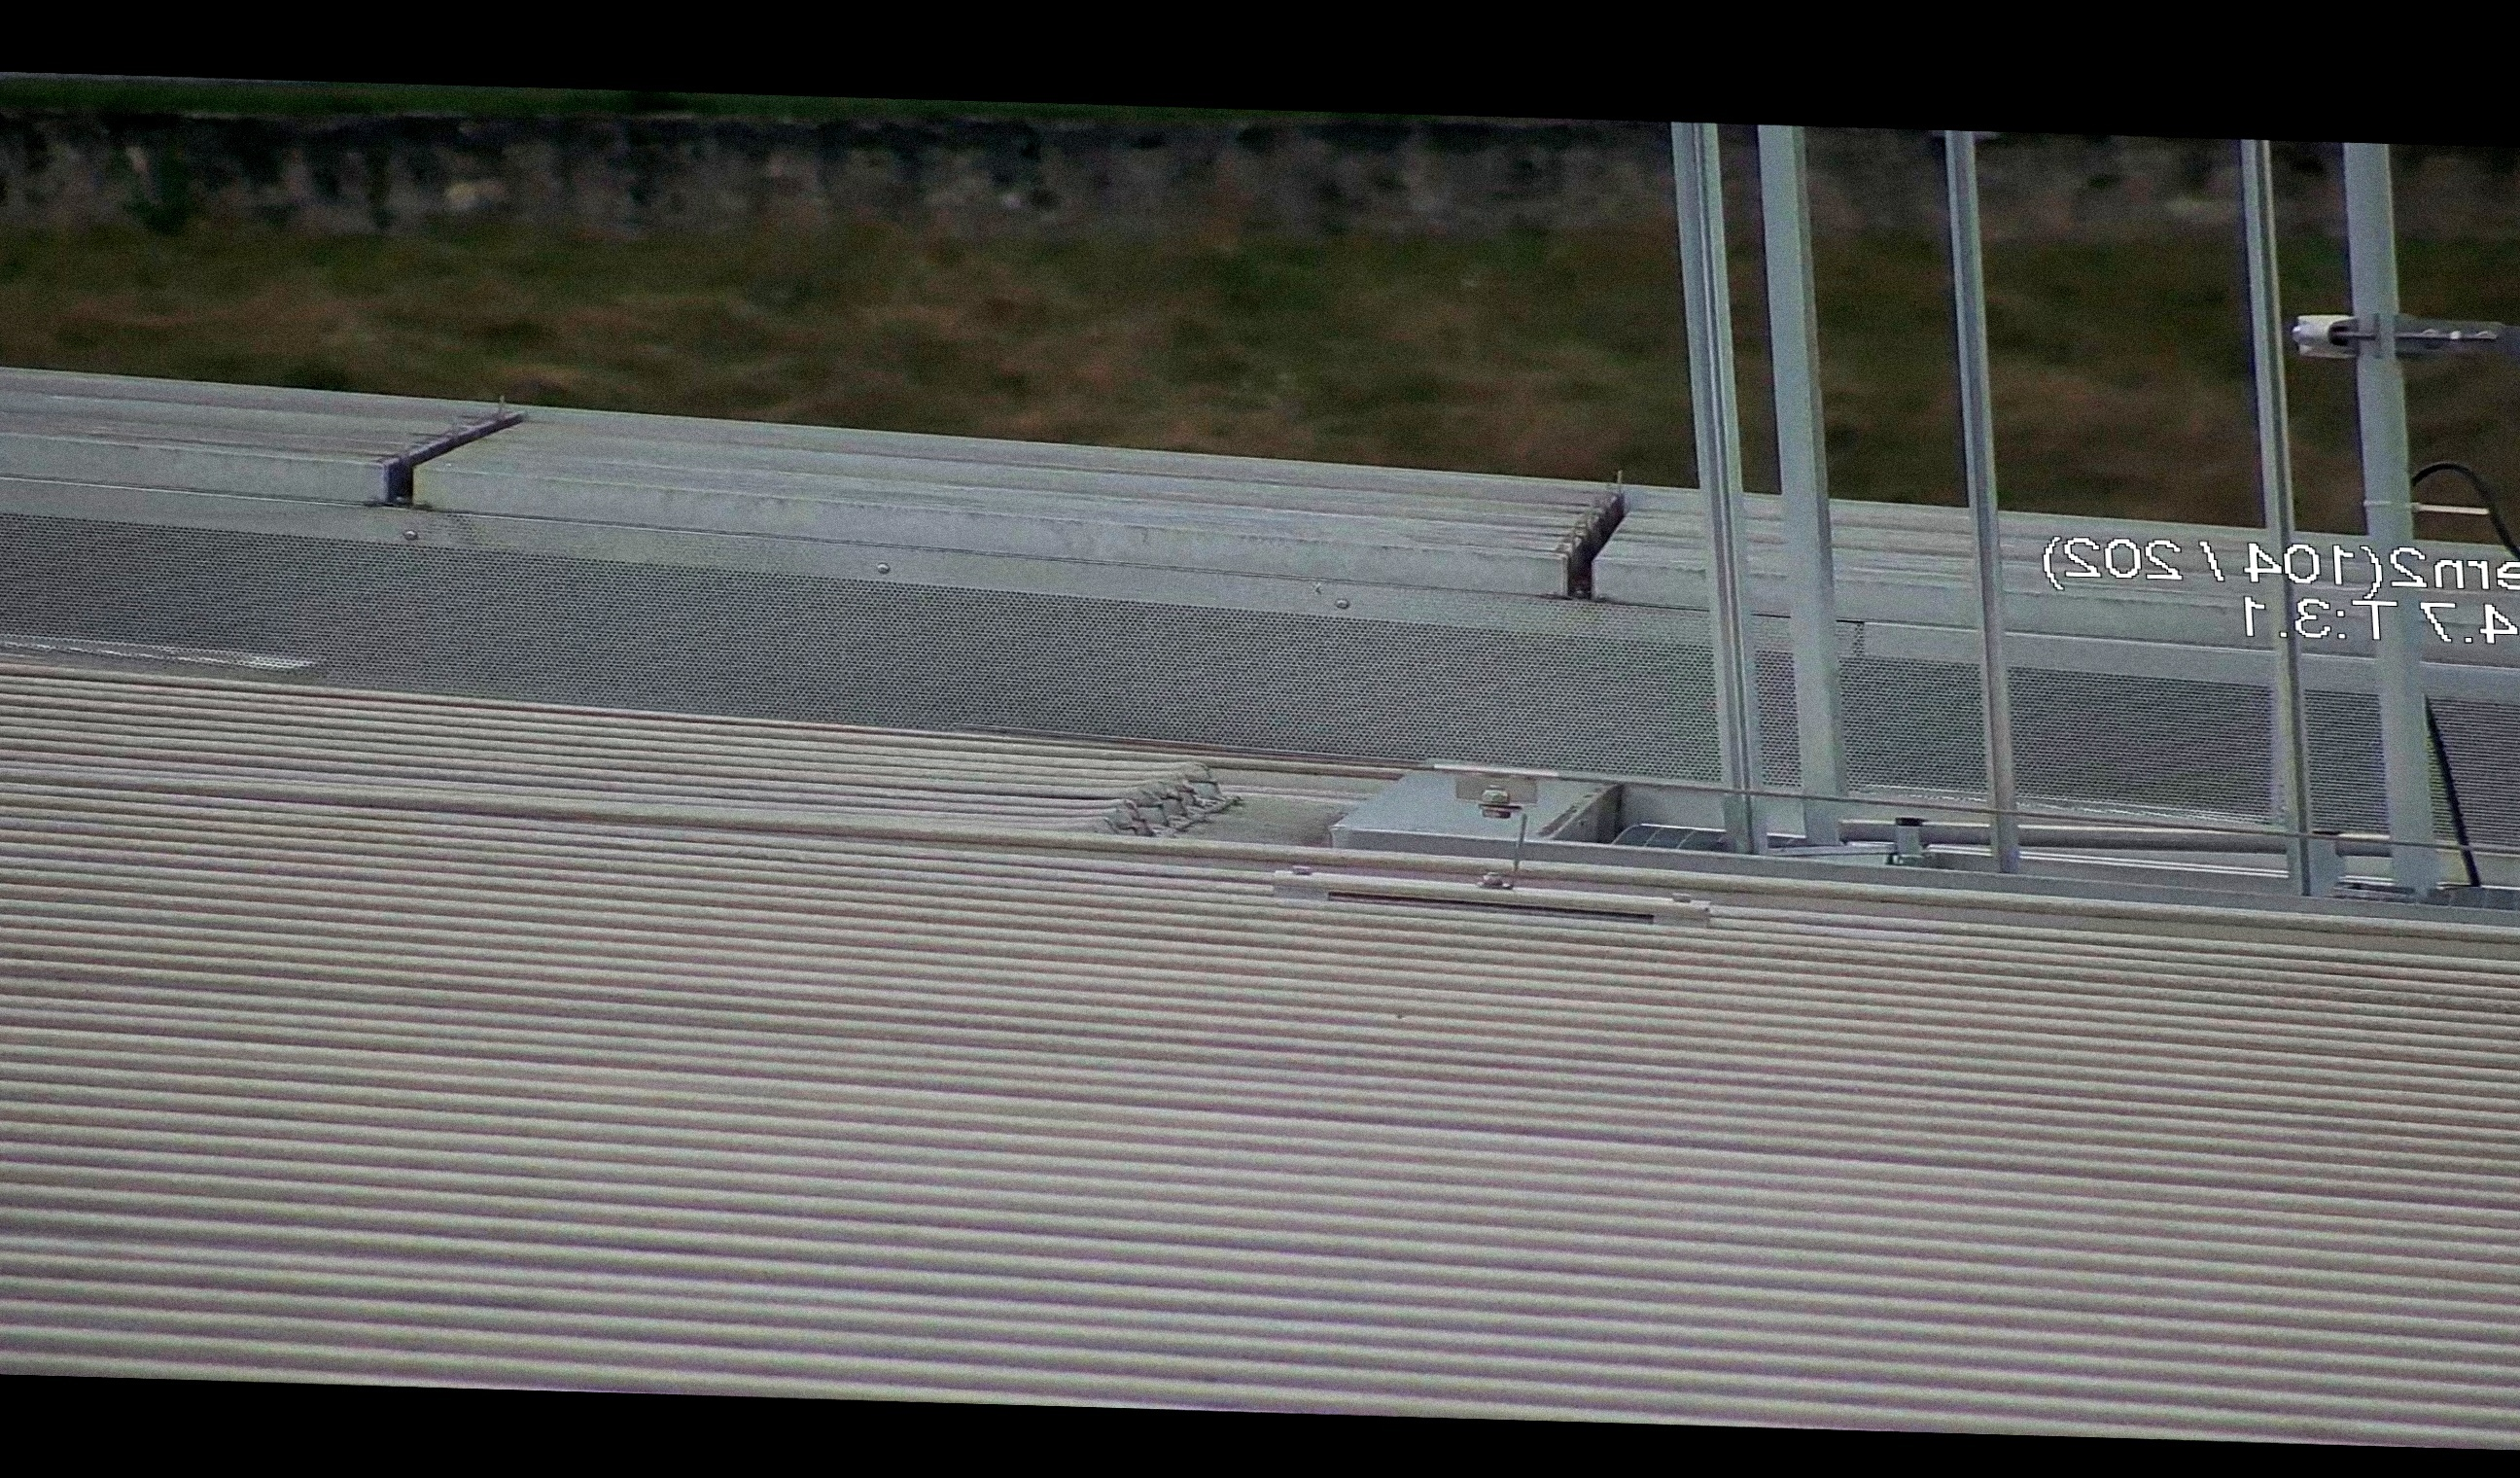Other: (1532, 461, 1658, 600)
